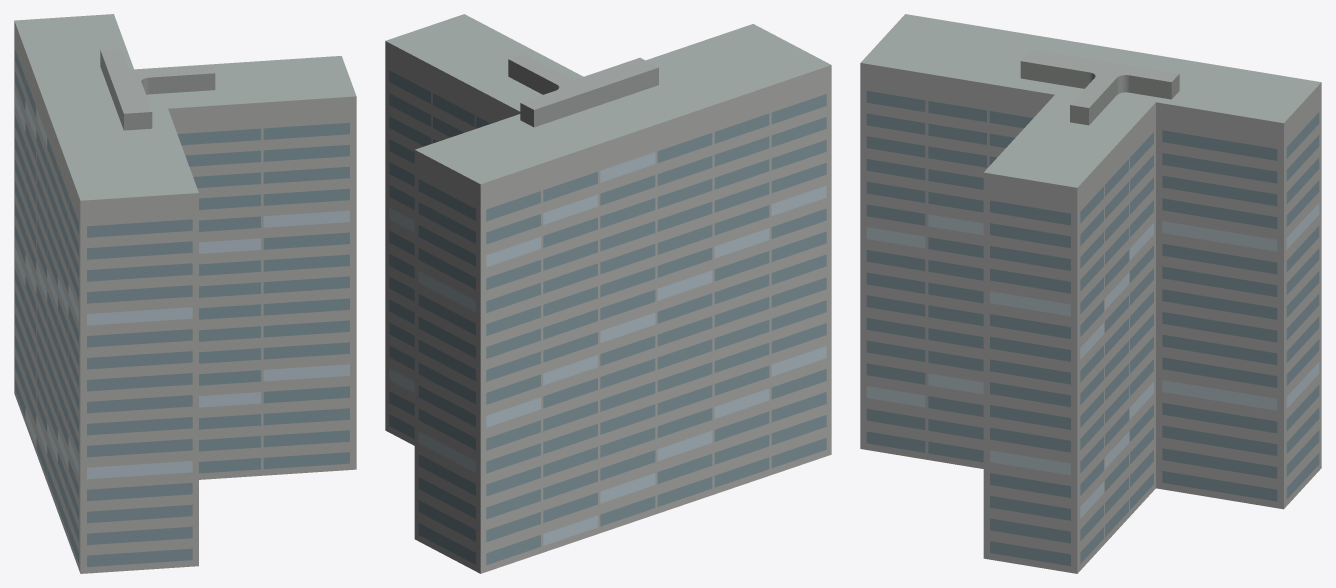
Rendered from apt-a12208101.glb.
3 renders of one model, left to right at view 1: azimuth 30°, elevation 25°; view 2: azimuth 150°, elevation 25°; view 3: azimuth 270°, elevation 25°, orthographic. The views are drawn at different scales.
Parts seen in each view (by area): view 1: apt-a12208101; view 2: apt-a12208101; view 3: apt-a12208101.
Boxes of the visible parts, left/top/right/bottom form: apt-a12208101: left=14, top=14, right=356, bottom=573; apt-a12208101: left=385, top=14, right=831, bottom=573; apt-a12208101: left=860, top=14, right=1321, bottom=573.
Size of the model in its own units: 50.08 by 54.18 by 56.12.
